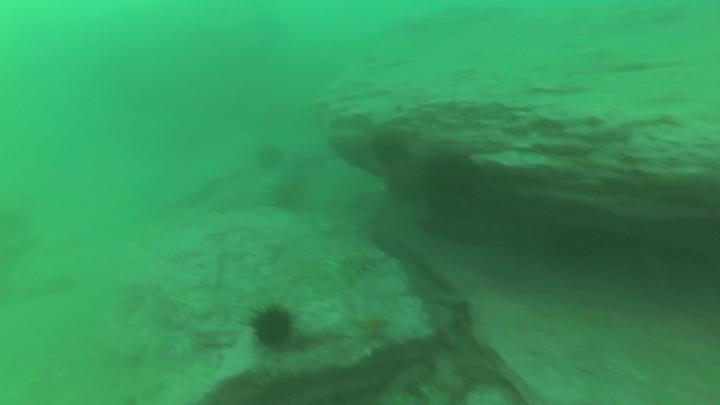echinus: (423, 153, 485, 209), (244, 303, 297, 355), (368, 132, 409, 170), (255, 142, 288, 176)
holothurian: (333, 250, 384, 278)
starfish: (350, 310, 395, 350)
